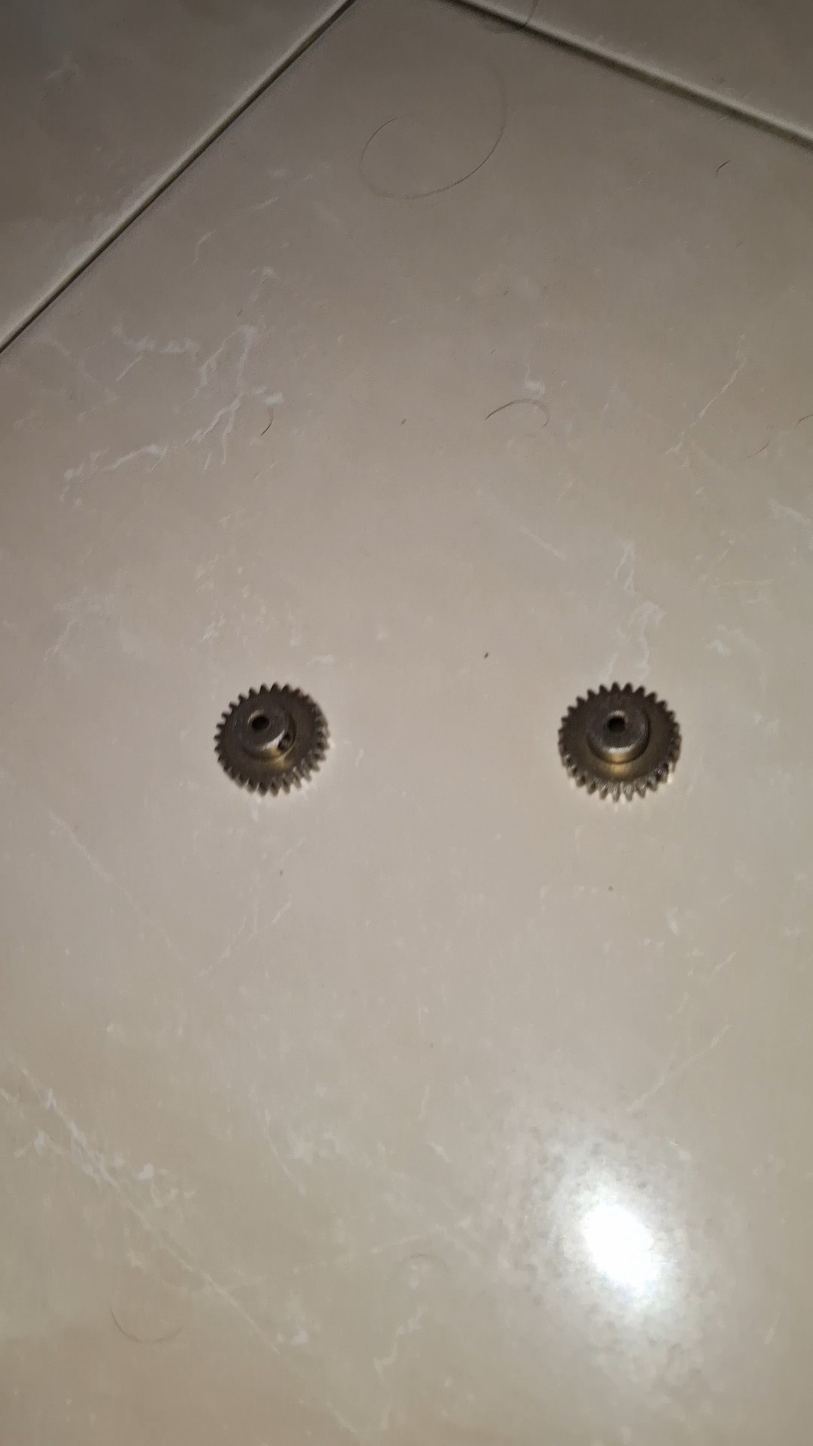spur gear: (559, 684, 680, 799), (216, 684, 328, 793)
